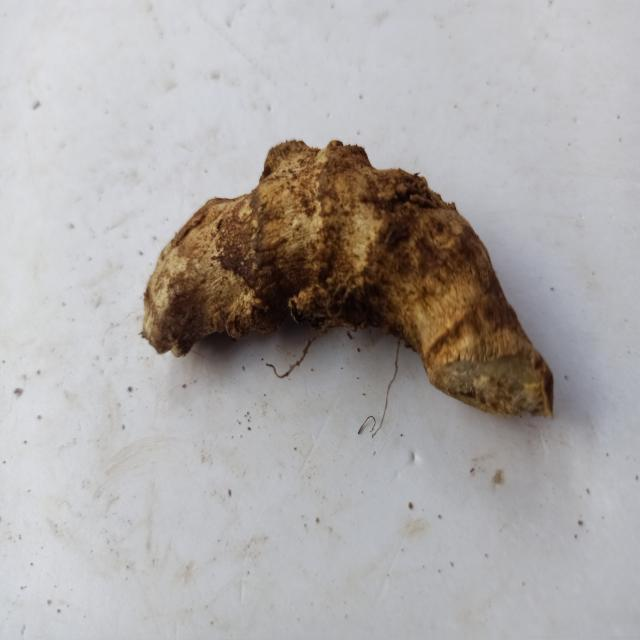Ginger: (142, 140, 554, 416)
